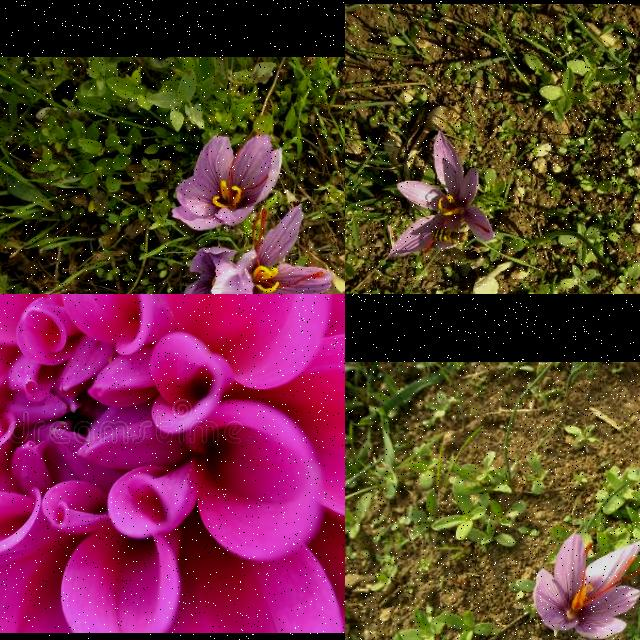flower: (386, 132, 494, 260), (532, 532, 640, 640), (172, 133, 284, 231)
overlap: (178, 205, 332, 294)
